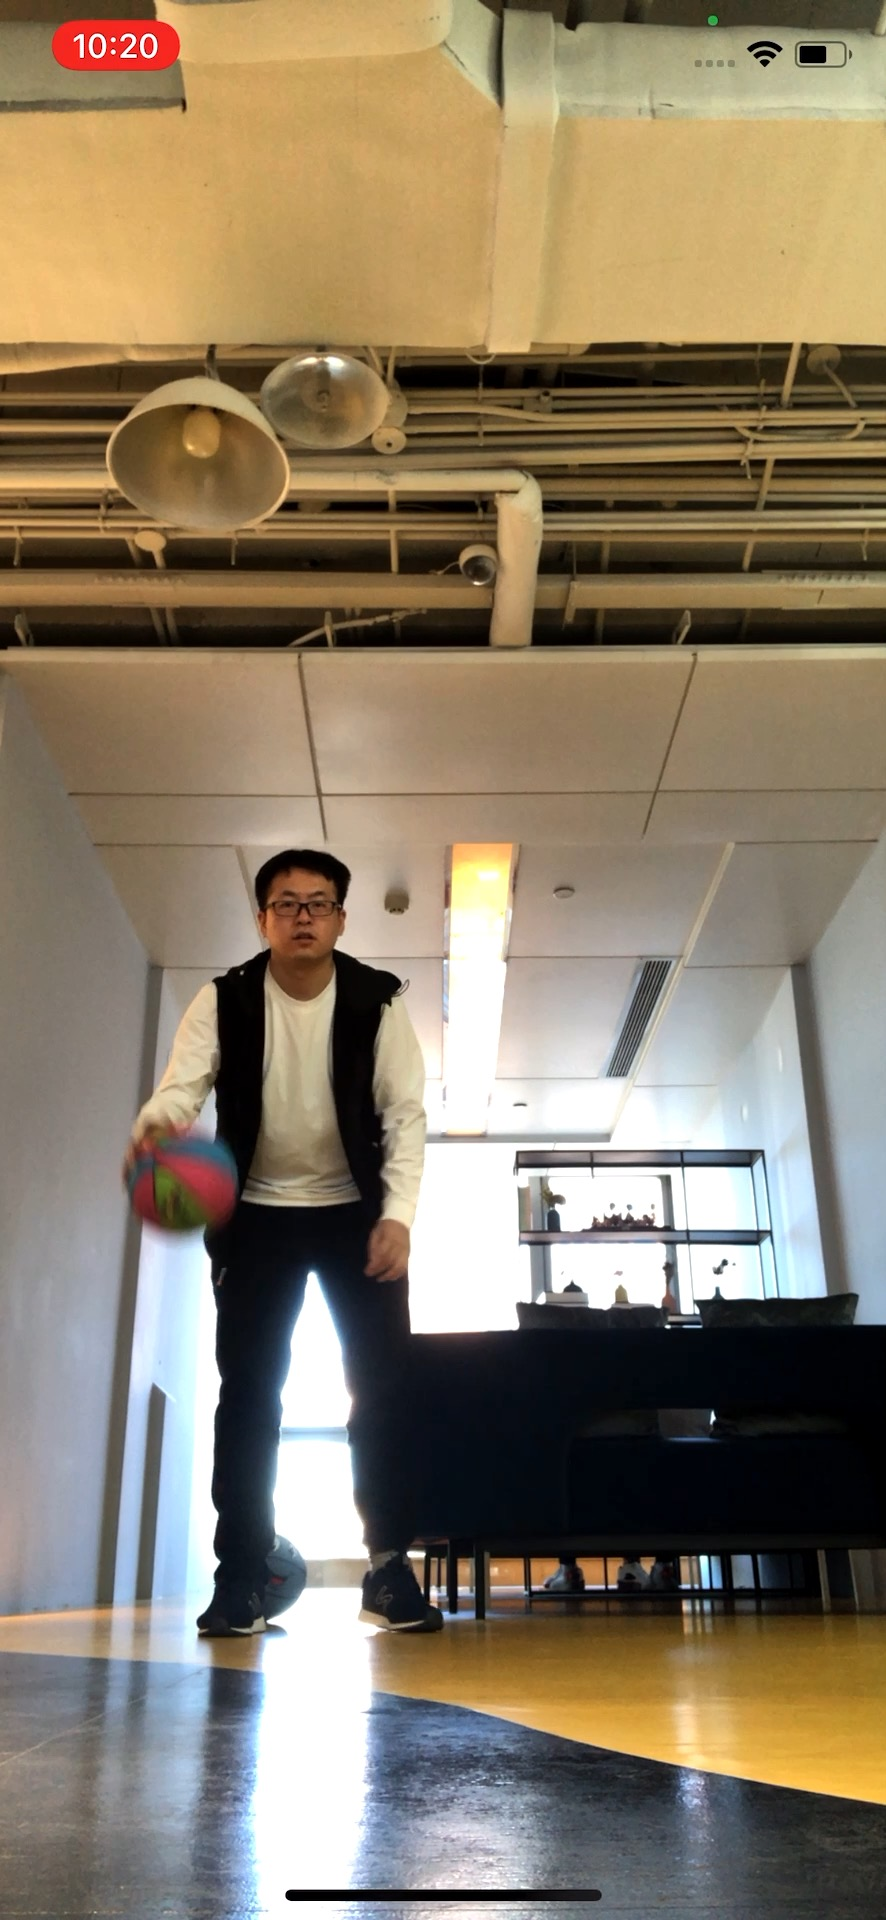ball: (128, 1133, 239, 1233)
